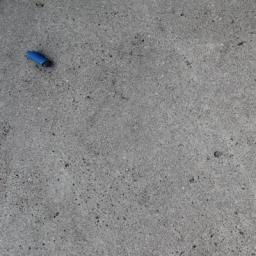FOD: (25, 47, 55, 71)
